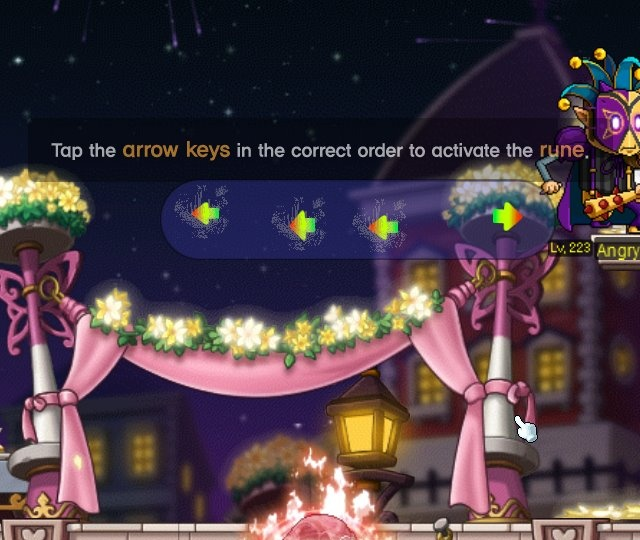rune_box: (151, 172, 566, 265)
